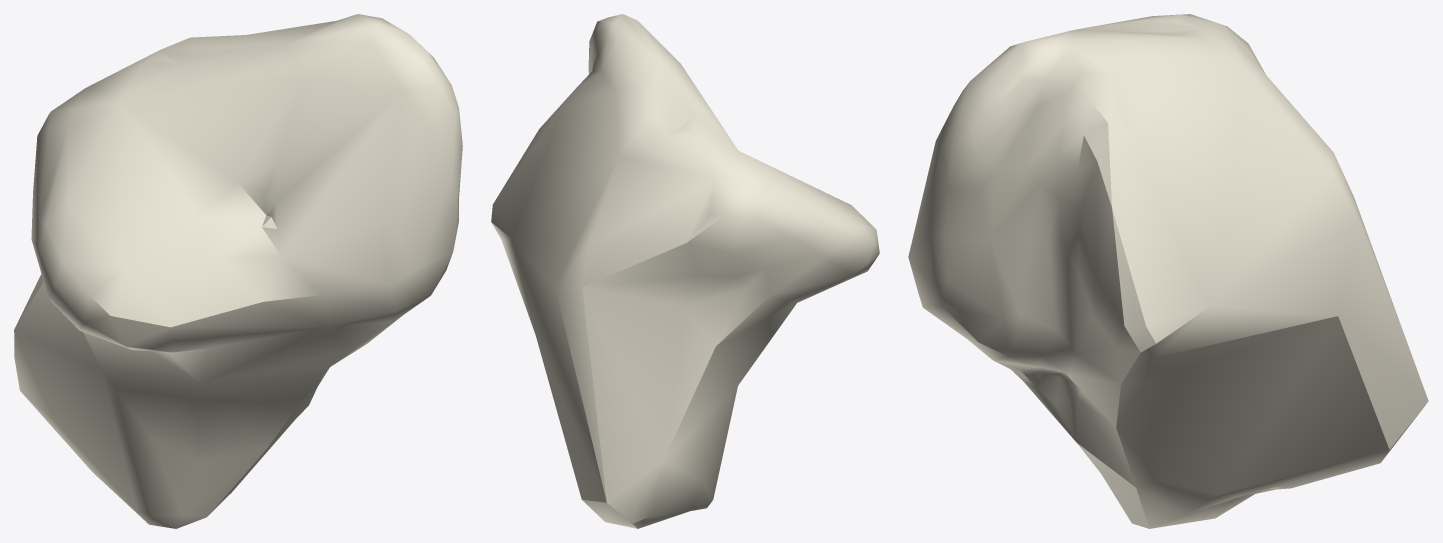
The model's file is fma24443_fj3388.glb.
The picture shows the model from 3 angles, left to right: view 1: azimuth 30°, elevation 25°; view 2: azimuth 150°, elevation 25°; view 3: azimuth 270°, elevation 25°; orthographic projection. The views are drawn at different scales.
Parts seen in each view (by area): view 1: FMA24443_FJ3388; view 2: FMA24443_FJ3388; view 3: FMA24443_FJ3388.
Part boxes in pixels (<box>): FMA24443_FJ3388: <box>14,14,462,528</box>; FMA24443_FJ3388: <box>491,14,879,528</box>; FMA24443_FJ3388: <box>908,14,1428,528</box>.
Size of the model in its own units: 0.0168 by 0.0199 by 0.0168.
